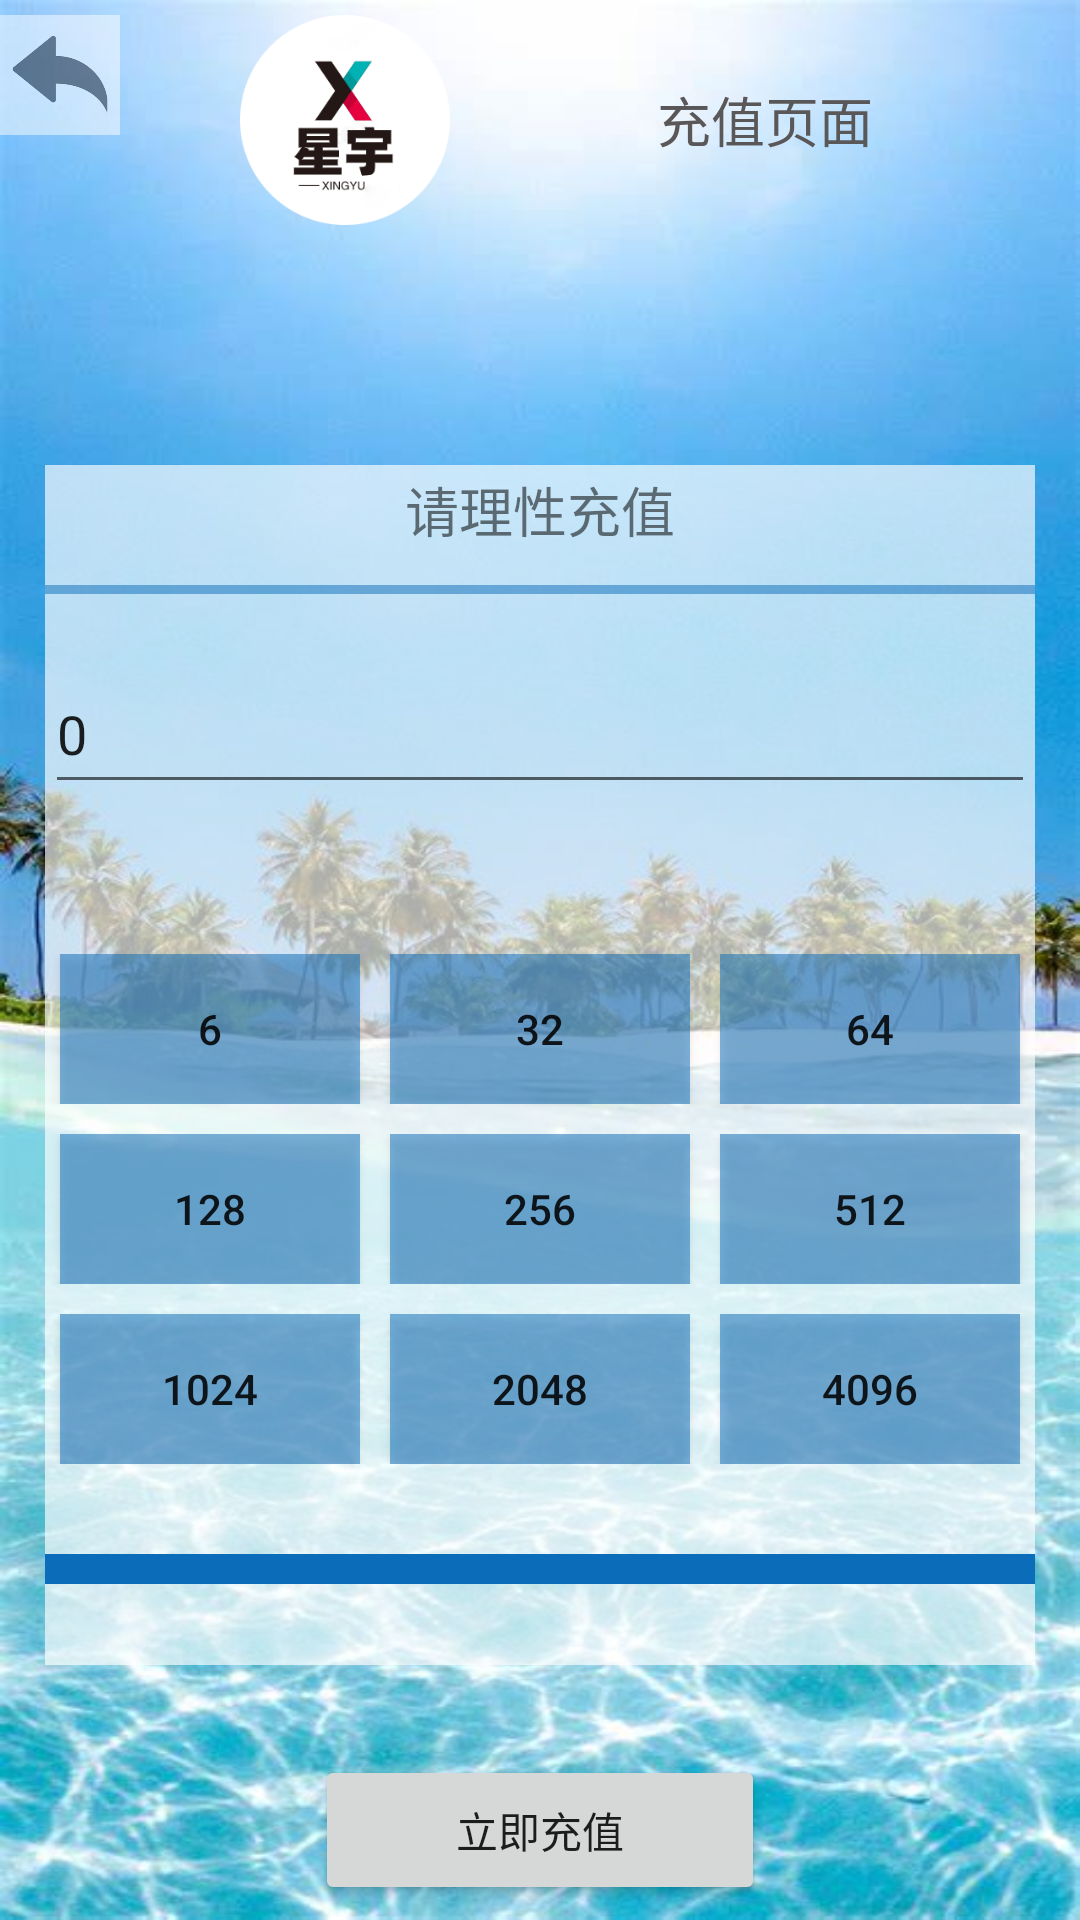

Where icons sit on this 1080x1920 app screen, as (x1, y1, x2, y2):
back: (0, 15, 120, 135)
